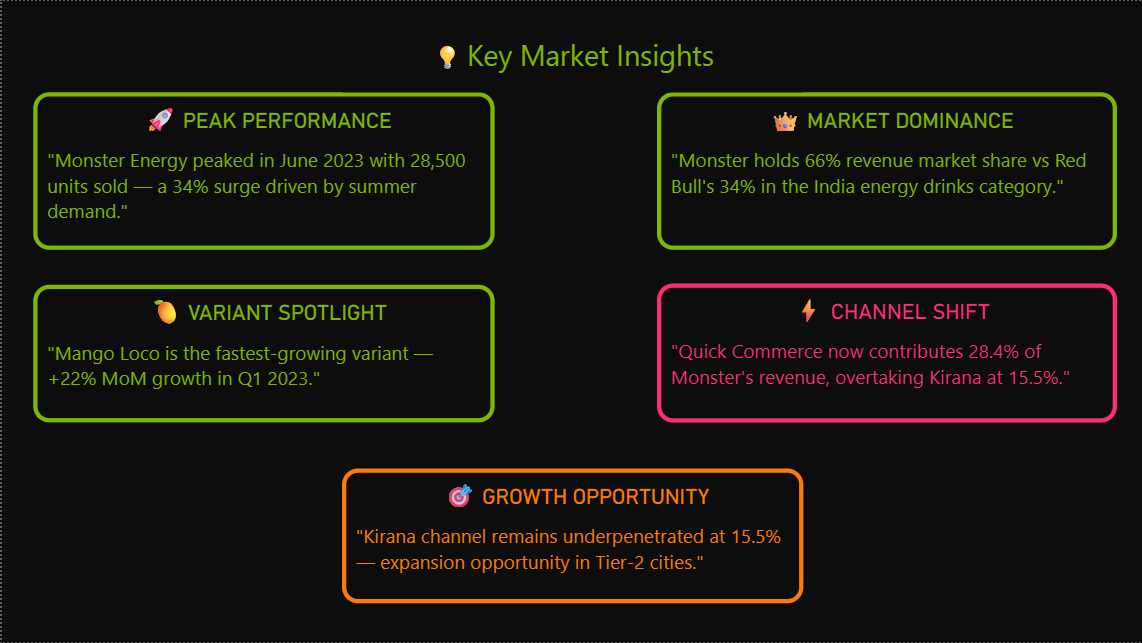

The page's visual inventory and layout, read from the dashboard file:
{"tool":"powerbi","page":{"name":"Key Insights ","canvas":[1280,720],"ordinal":4},"visuals":[{"type":"textbox","title":"🚀 PEAK PERFORMANCE","box":[35.1,102.4,517.4,176.7],"z":0},{"type":"textbox","title":"👑 MARKET DOMINANCE","box":[734.8,102.4,516,176.7],"z":1000},{"type":"textbox","title":"🥭 VARIANT SPOTLIGHT","box":[35.1,318.3,517.4,154.3],"z":2000},{"type":"textbox","title":"⚡ CHANNEL SHIFT","box":[734.8,316.9,516,155.7],"z":3000},{"type":"textbox","title":"🎯 GROWTH OPPORTUNITY","box":[381.4,524.5,517.4,151.4],"z":4000},{"type":"textbox","box":[381.4,34.3,517.1,68.6],"z":5000}]}

Visuals, with their boxes in screenshot pixels (x1, y1, x2, y2), scaled from the page's 1280x720 canvas onto the 1142x643 screenshot:
"🚀 PEAK PERFORMANCE" textbox: l=31, t=91, r=493, b=249
"👑 MARKET DOMINANCE" textbox: l=656, t=91, r=1116, b=249
"🥭 VARIANT SPOTLIGHT" textbox: l=31, t=284, r=493, b=422
"⚡ CHANNEL SHIFT" textbox: l=656, t=283, r=1116, b=422
"🎯 GROWTH OPPORTUNITY" textbox: l=340, t=468, r=802, b=604
textbox: l=340, t=31, r=802, b=92
